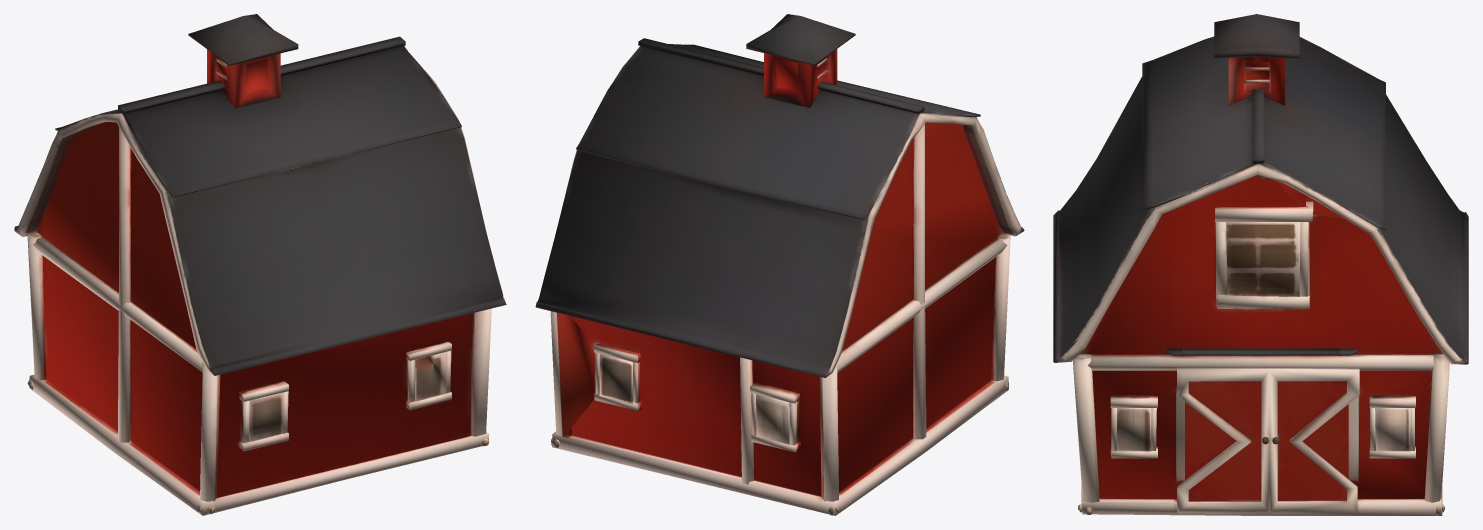
The model's file is farmhouse.glb.
3 views of the same model, side by side, from view 1: azimuth 30°, elevation 25°; view 2: azimuth 150°, elevation 25°; view 3: azimuth 270°, elevation 25° (orthographic). The views are drawn at different scales.
Parts seen in each view (by area): view 1: tripo_node_9d3f380d-4f25-4229-87bf-4f1c2d46d0d3; view 2: tripo_node_9d3f380d-4f25-4229-87bf-4f1c2d46d0d3; view 3: tripo_node_9d3f380d-4f25-4229-87bf-4f1c2d46d0d3.
Boxes of the visible parts, x1,y1,x2,y2 form: tripo_node_9d3f380d-4f25-4229-87bf-4f1c2d46d0d3: [14, 14, 506, 515]; tripo_node_9d3f380d-4f25-4229-87bf-4f1c2d46d0d3: [535, 14, 1024, 515]; tripo_node_9d3f380d-4f25-4229-87bf-4f1c2d46d0d3: [1053, 14, 1468, 515].
Size of the model in its own units: 0.7676 by 0.998 by 0.8926.
Materials: 1 (1 with a texture image).
